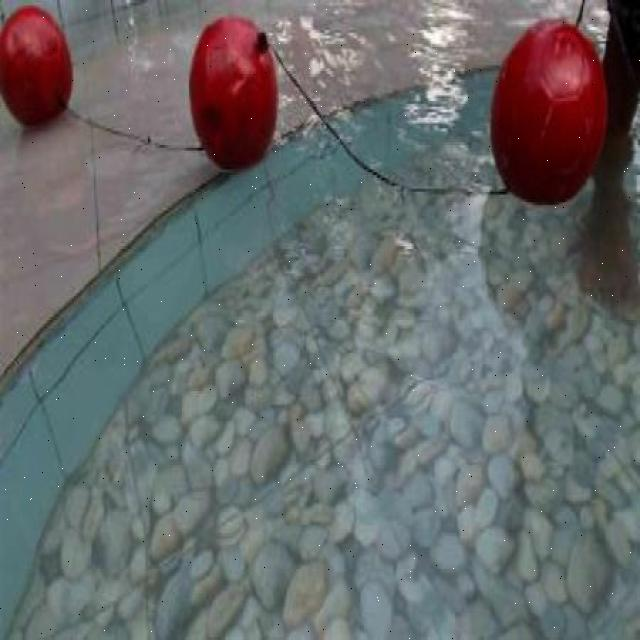buoy: (489, 15, 606, 204), (188, 14, 277, 167), (0, 5, 71, 126)
